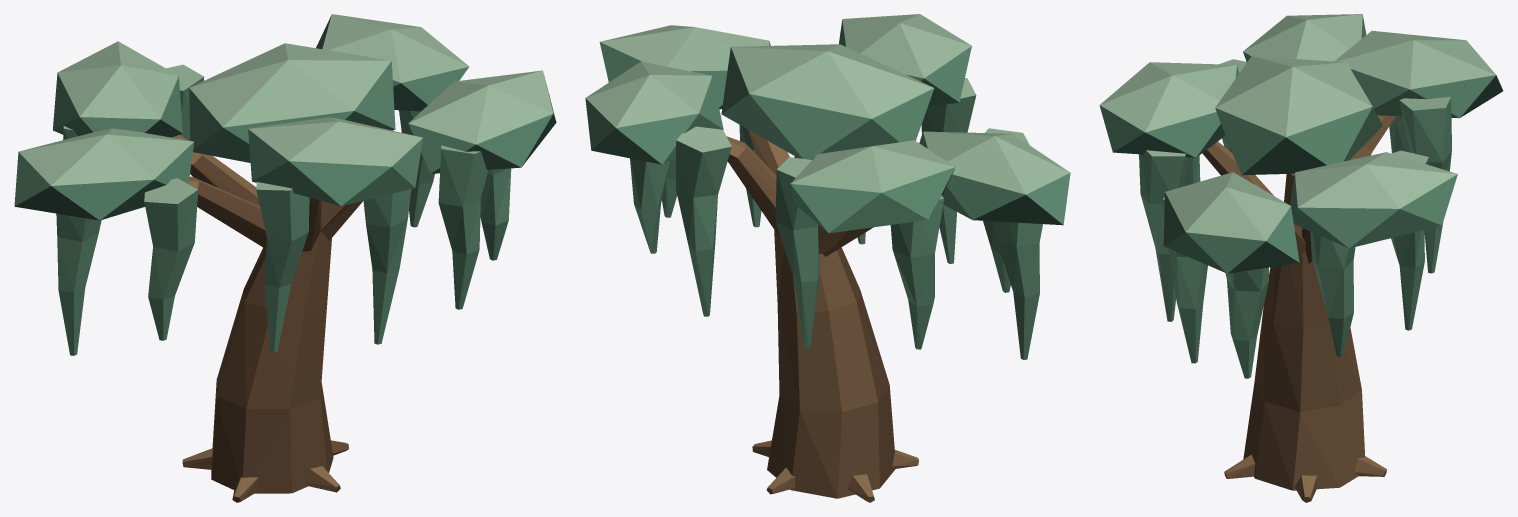
The picture shows the model from 3 angles, left to right: view 1: azimuth 30°, elevation 25°; view 2: azimuth 150°, elevation 25°; view 3: azimuth 270°, elevation 25°; orthographic projection.
Parts seen in each view (by area): view 1: WK_Tree_Willow_RiverMist_LOD0_High; view 2: WK_Tree_Willow_RiverMist_LOD0_High; view 3: WK_Tree_Willow_RiverMist_LOD0_High.
Part boxes in pixels (left/top/right/bottom): WK_Tree_Willow_RiverMist_LOD0_High: left=14, top=14, right=556, bottom=502; WK_Tree_Willow_RiverMist_LOD0_High: left=585, top=14, right=1070, bottom=502; WK_Tree_Willow_RiverMist_LOD0_High: left=1099, top=14, right=1503, bottom=502.
Size of the model in its own units: 6.1 by 4.89 by 4.37.
